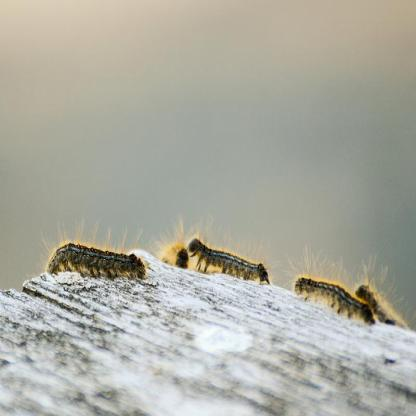armyworm: (42, 232, 146, 284), (183, 232, 270, 282), (292, 271, 375, 319), (356, 275, 416, 334)
